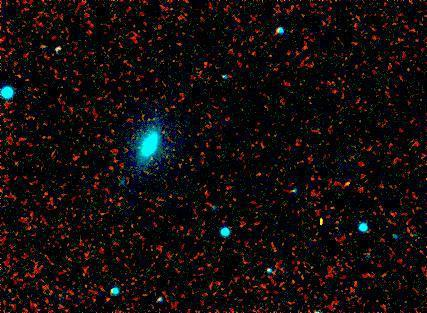star: (332, 166, 362, 196)
